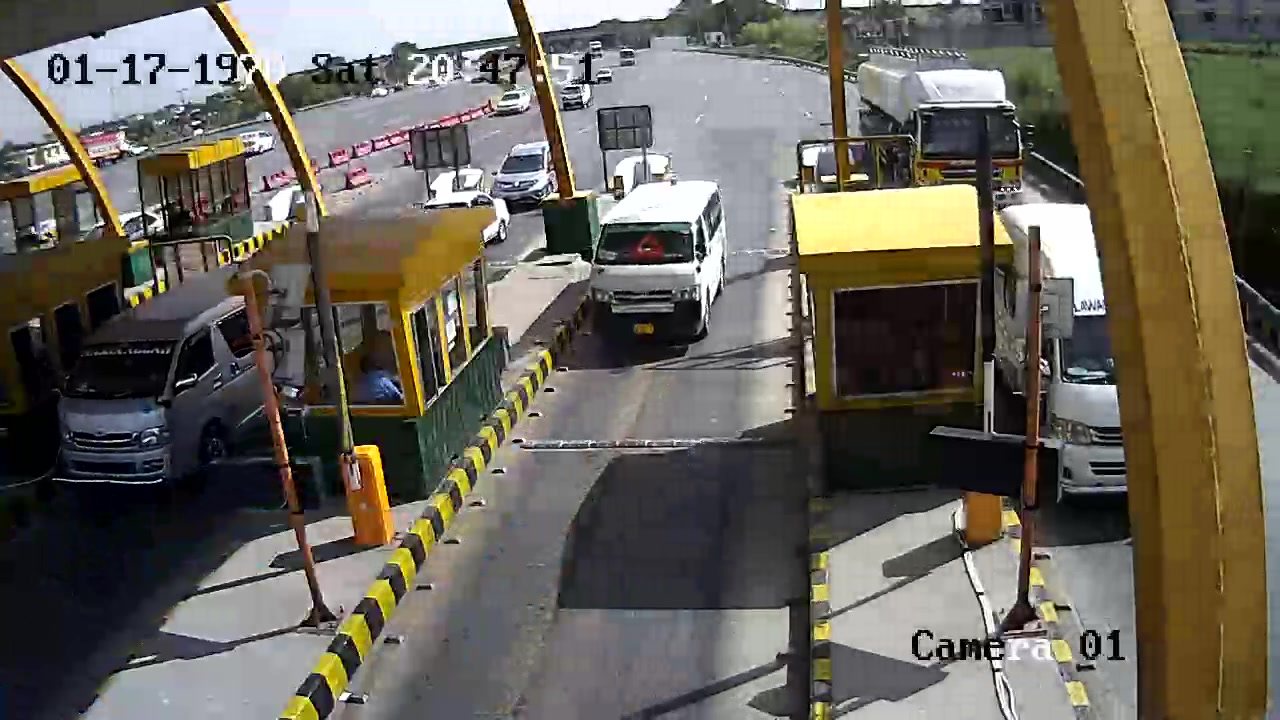F3: (583, 173, 732, 353)
